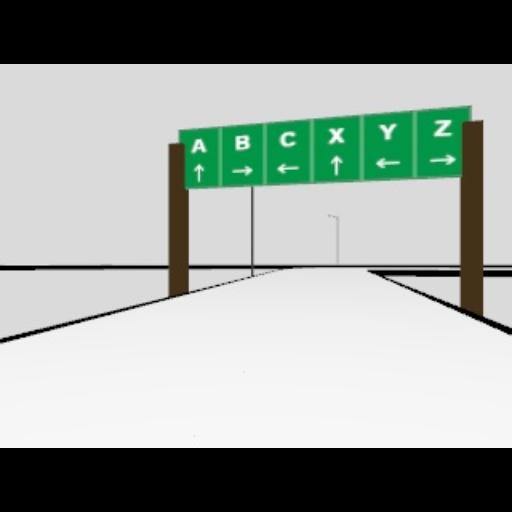A: (190, 138, 206, 152)
B: (234, 134, 250, 150)
C: (278, 129, 296, 147)
Left: (372, 156, 402, 168), (275, 162, 299, 172)
Right: (230, 164, 254, 176), (428, 154, 456, 164)
Straight: (330, 156, 342, 174), (192, 163, 204, 181)
X: (328, 126, 344, 144)
Y: (378, 121, 396, 139)
Z: (432, 116, 452, 136)
